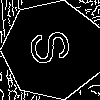S: (27, 25, 81, 68)
